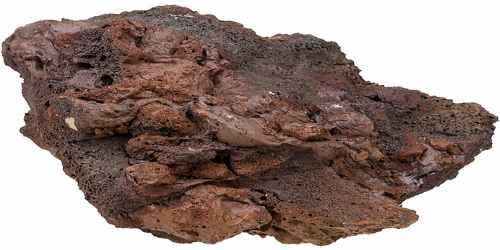volcanic_rock: (1, 1, 497, 245)
